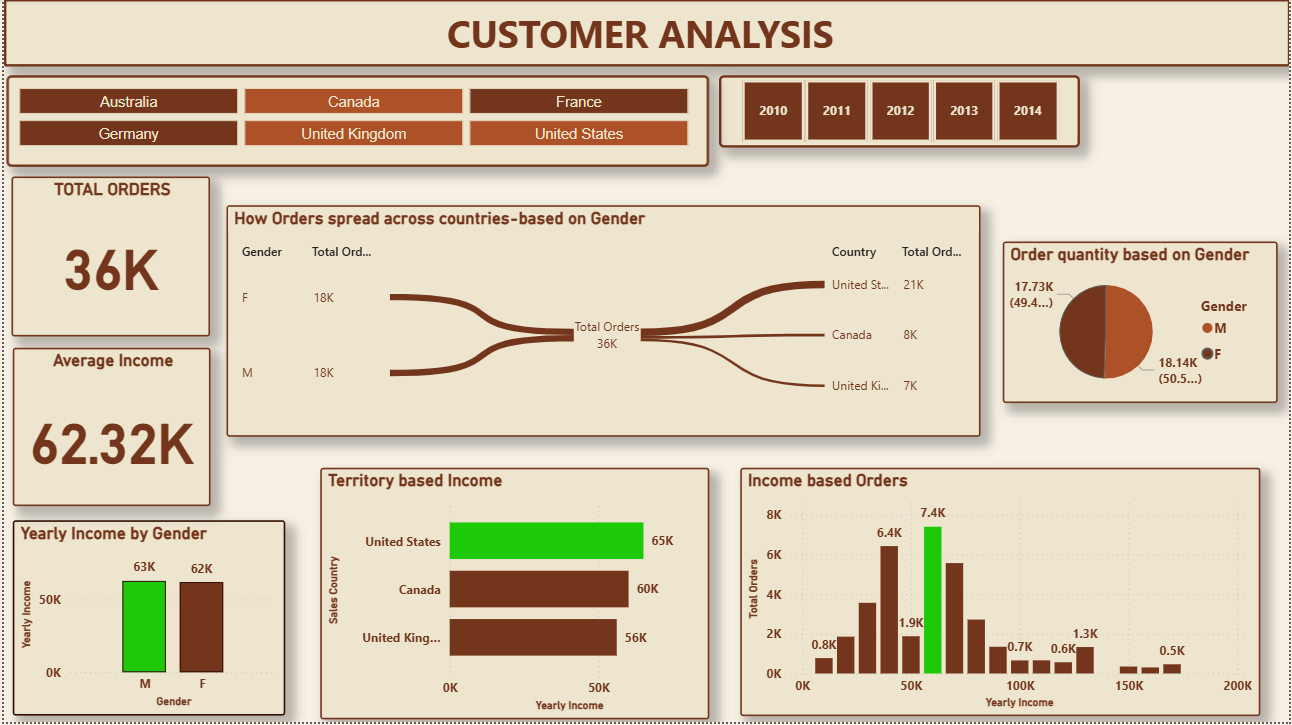

This screenshot's page, from the dashboard's own definition file:
{"tool":"powerbi","page":{"name":"CUSTOMER ANALYSIS","canvas":[1280,720],"ordinal":0},"visuals":[{"type":"pieChart","title":"Order quantity based on Gender","fields":{"Category":["vw_ftinternetsales.gender"],"Y":["CountNonNull(vw_ftinternetsales.orderquantity)"]},"box":[993.9,241.3,273.7,160.5],"z":0},{"type":"textbox","box":[0,0,1280.3,67.2],"z":1000},{"type":"slicer","title":"YEARS","fields":{"Values":["vw_ftinternetsales.calendaryear"]},"box":[711.5,75.9,359.5,72.1],"z":2000},{"type":"ChicletSlicer1448559807354","title":"COUNTRIES","fields":{"Category":["vw_ftinternetsales.salesterritorycountry"]},"box":[2.5,75.9,699.1,90.8],"z":3000},{"type":"clusteredColumnChart","title":"Yearly Income by Gender","fields":{"Category":["vw_ftinternetsales.gender"],"Y":["Avg(vw_ftinternetsales.yearlyincome)"]},"box":[8.7,518.7,271.2,194.1],"z":4000},{"type":"card","title":"TOTAL ORDERS","fields":{"Values":["DimProductCategory.total_orders"]},"box":[7.5,176.6,197.8,159.2],"z":5000},{"type":"clusteredColumnChart","title":"Income based Orders","fields":{"Category":["vw_ftinternetsales.yearlyincome"],"Y":["DimProductCategory.total_orders"]},"box":[732.7,466.5,517.5,247.5],"z":6000},{"type":"card","title":"Average Income","fields":{"Values":["measures (3).Income"]},"box":[8.7,347.1,196.5,158],"z":7000},{"type":"clusteredBarChart","title":"Territory based Income","fields":{"Category":["vw_ftinternetsales.salesterritorycountry"],"Y":["measures (3).Income"]},"box":[314.7,466.5,386.9,250],"z":8000},{"type":"BowtieChart1465021618681","title":"How Orders spread across countries-based on Gender","fields":{"Value":["DimProductCategory.total_orders"],"Destination":["vw_ftinternetsales.gender"],"Source":["vw_ftinternetsales.salesterritorycountry"]},"box":[221.4,205.3,750.1,230.1],"z":8001}]}

Visuals, with their boxes in screenshot pixels (x1, y1, x2, y2), scaled from the page's 1280x720 canvas onto the 1292x725 screenshot:
"Order quantity based on Gender" pieChart: [1003,243,1279,405]
textbox: [0,0,1291,68]
"YEARS" slicer: [718,76,1081,149]
"COUNTRIES" ChicletSlicer1448559807354: [3,76,708,168]
"Yearly Income by Gender" clusteredColumnChart: [9,522,283,718]
"TOTAL ORDERS" card: [8,178,207,338]
"Income based Orders" clusteredColumnChart: [740,470,1262,719]
"Average Income" card: [9,350,207,509]
"Territory based Income" clusteredBarChart: [318,470,708,721]
"How Orders spread across countries-based on Gender" BowtieChart1465021618681: [223,207,981,438]
